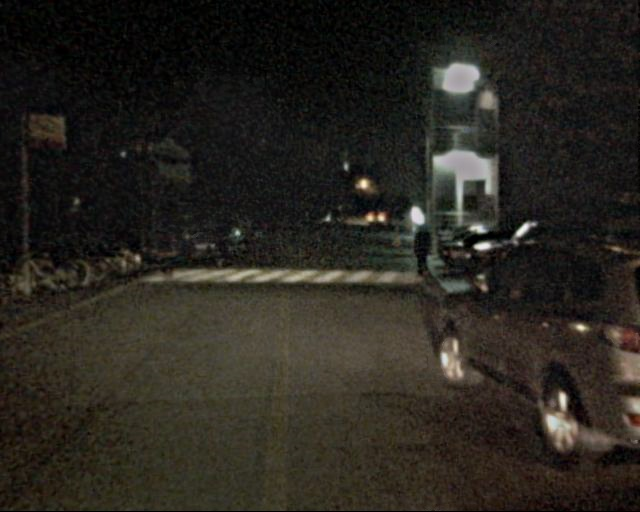person: (408, 225, 434, 289), (152, 220, 177, 280), (205, 218, 223, 262)
